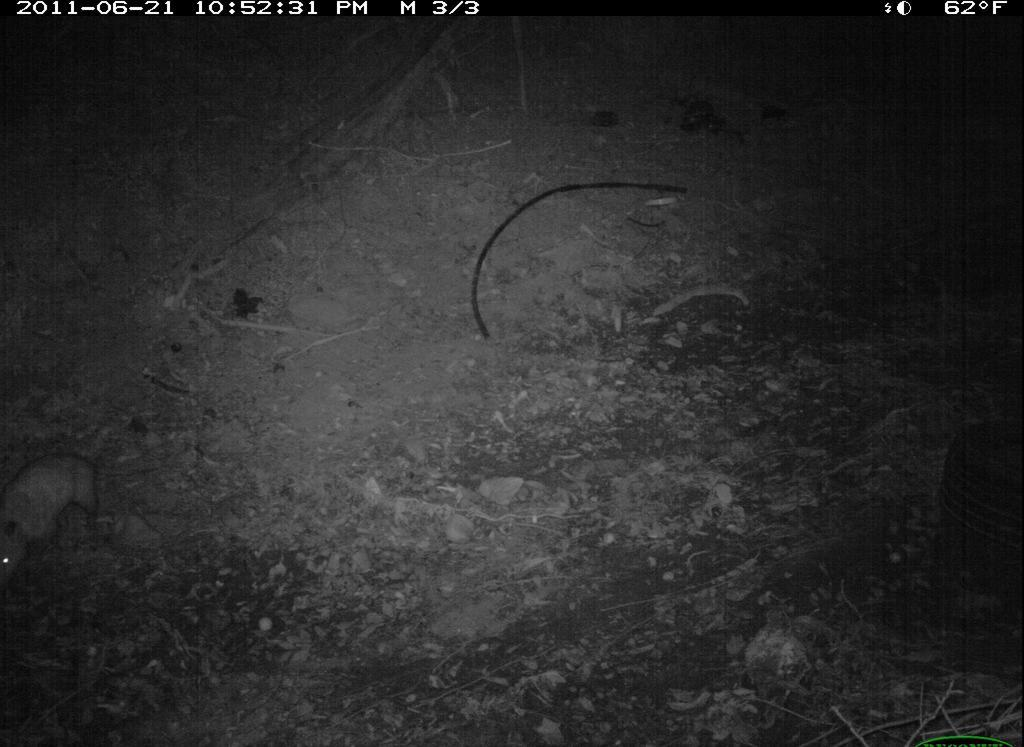opossum: (4, 423, 118, 602)
